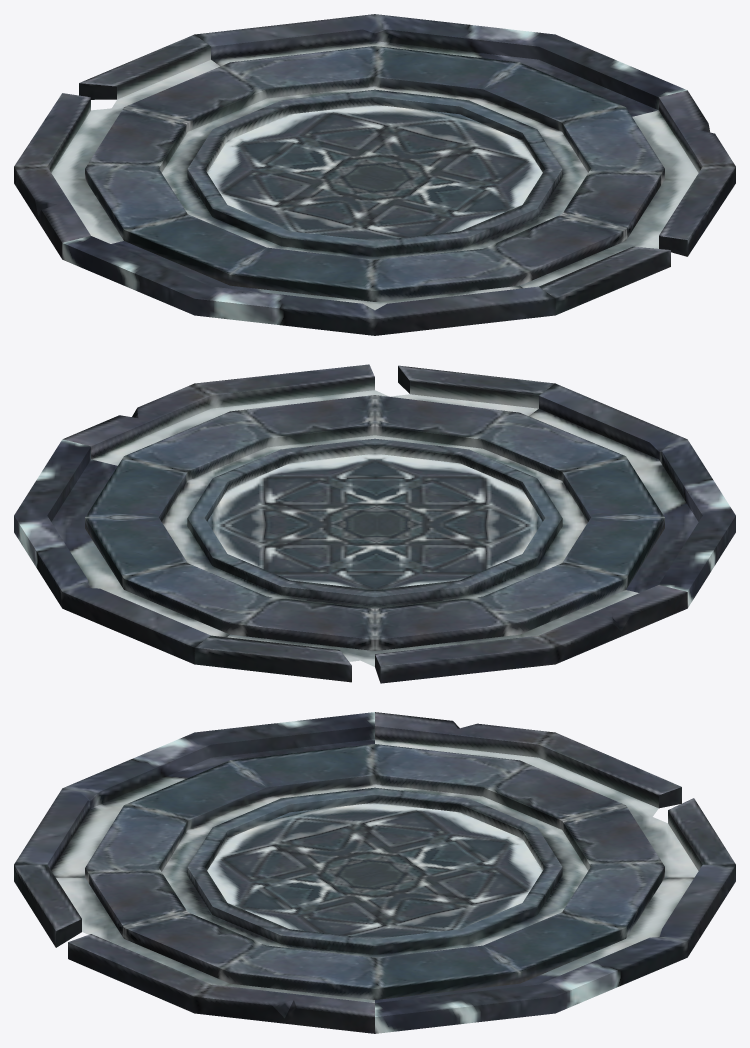
File: yw_xuesebingfeng_tielong01.FBX
The picture shows the model from 3 angles, top to bottom: view 1: azimuth 30°, elevation 25°; view 2: azimuth 150°, elevation 25°; view 3: azimuth 270°, elevation 25°; orthographic projection.
Visible parts, largest first — view 1: yw_xuesebingfeng_yuanpan02; view 2: yw_xuesebingfeng_yuanpan02; view 3: yw_xuesebingfeng_yuanpan02.
Part boxes in pixels (box(x1,y1,x2,y2)): yw_xuesebingfeng_yuanpan02: box(14, 14, 735, 335); yw_xuesebingfeng_yuanpan02: box(14, 364, 735, 683); yw_xuesebingfeng_yuanpan02: box(14, 712, 735, 1033).
Size of the model in its own units: 1999 by 51.21 by 1999.
